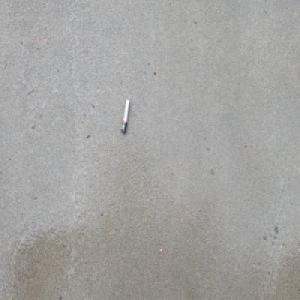Battery: (120, 98, 130, 134)
